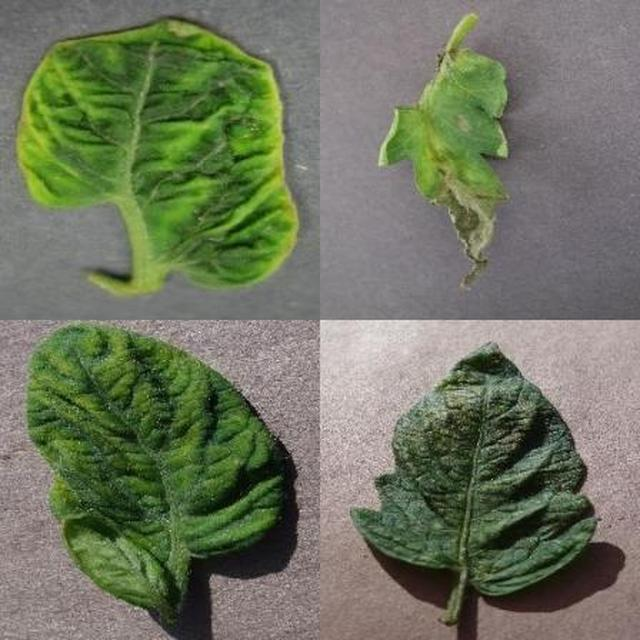Yellow Leaf Curl Virus: (190, 217, 640, 640)
